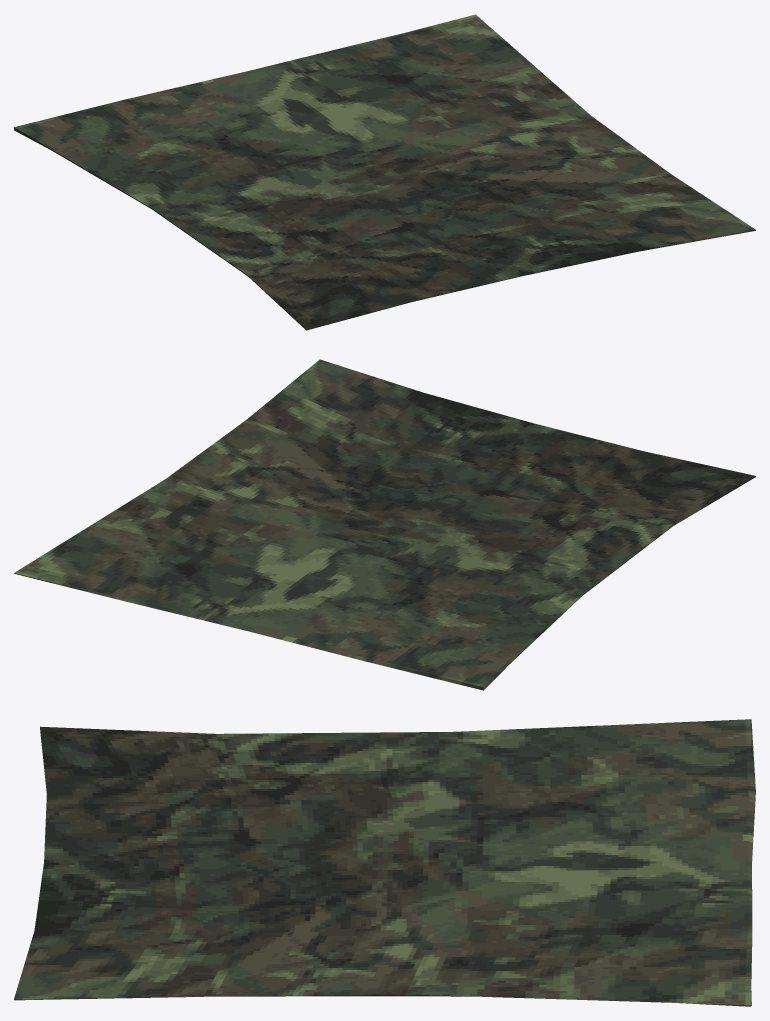
The model's file is Big_LargeTarp_Back.fbx.
The picture shows the model from 3 angles, top to bottom: view 1: azimuth 30°, elevation 25°; view 2: azimuth 150°, elevation 25°; view 3: azimuth 270°, elevation 25°; orthographic projection. The views are drawn at different scales.
Visible parts, largest first — view 1: BIgTarp; view 2: BIgTarp; view 3: BIgTarp.
Boxes of the visible parts, box(x1,y1,x2,y2) form: BIgTarp: box(14, 14, 755, 330); BIgTarp: box(14, 359, 755, 690); BIgTarp: box(14, 719, 755, 1006).
Bounding box in the file's own units: 22.35 × 0.3633 × 24.49.
